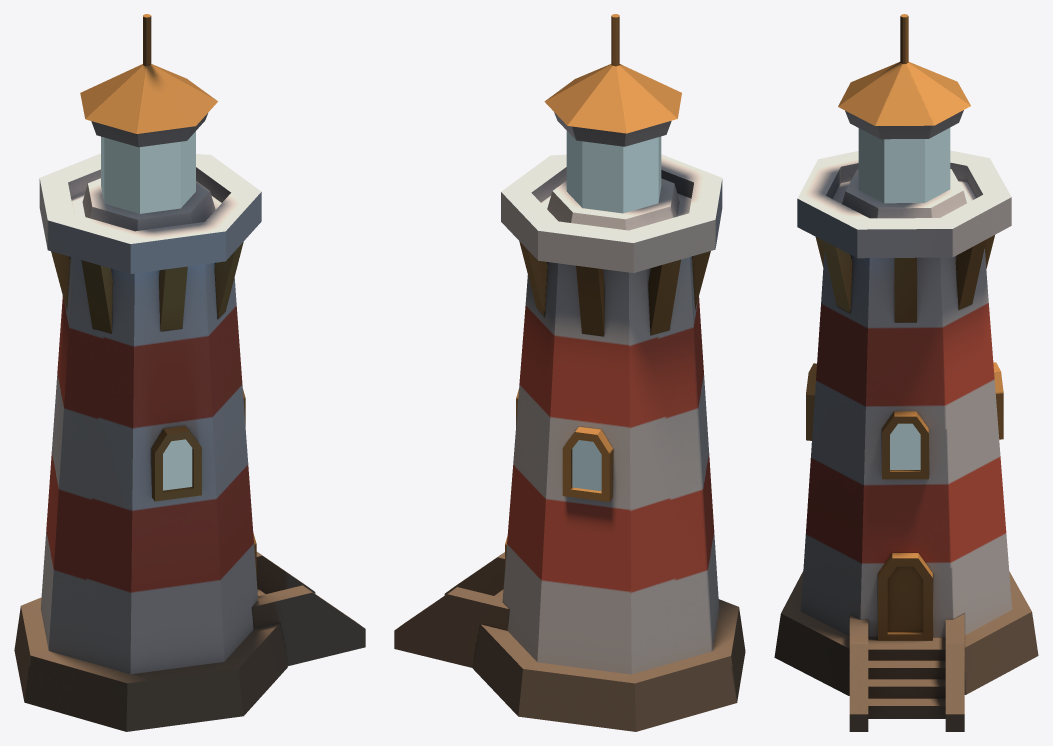
Rendered from lighthouse.glb.
3 renders of one model, left to right at view 1: azimuth 30°, elevation 25°; view 2: azimuth 150°, elevation 25°; view 3: azimuth 270°, elevation 25°, orthographic. The views are drawn at different scales.
Visible parts, largest first — view 1: lighthouse_Icosphere.029; view 2: lighthouse_Icosphere.029; view 3: lighthouse_Icosphere.029.
Boxes of the visible parts, left/top/right/bottom form: lighthouse_Icosphere.029: left=14, top=14, right=365, bottom=731; lighthouse_Icosphere.029: left=394, top=14, right=745, bottom=731; lighthouse_Icosphere.029: left=774, top=14, right=1038, bottom=731.
Bounding box in the file's own units: 1.55 × 3.13 × 1.19.
Materials: 2 (1 with a texture image).
